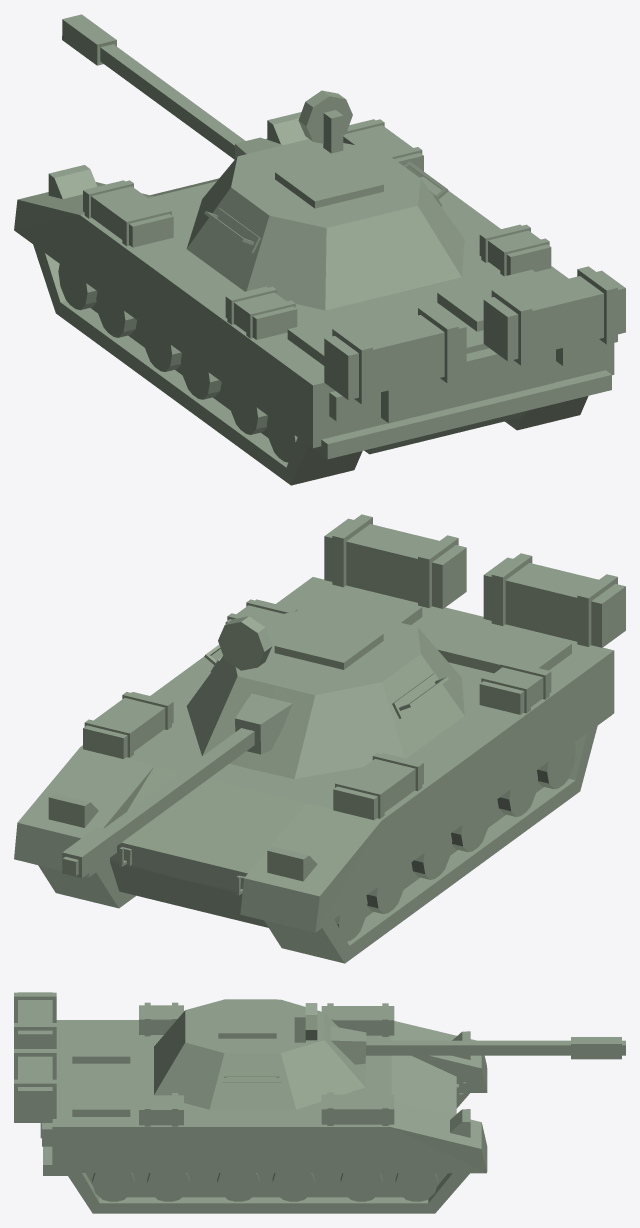
Rendered from tank_02_body.fbx.
3 renders of one model, top to bottom at view 1: azimuth 30°, elevation 25°; view 2: azimuth 150°, elevation 25°; view 3: azimuth 270°, elevation 25°, orthographic. The views are drawn at different scales.
Parts seen in each view (by area): view 1: tank_02_body, turret, barrel, lid01; view 2: tank_02_body, turret, barrel, lid01; view 3: tank_02_body, turret, barrel, lid01.
Boxes of the visible parts, bbox=[...] form: tank_02_body: bbox=[14, 112, 625, 485]; turret: bbox=[186, 90, 464, 310]; barrel: bbox=[62, 14, 283, 159]; lid01: bbox=[275, 155, 383, 208]; tank_02_body: bbox=[14, 514, 625, 963]; turret: bbox=[186, 604, 464, 778]; barrel: bbox=[62, 693, 292, 877]; lid01: bbox=[274, 617, 383, 669]; tank_02_body: bbox=[14, 992, 487, 1213]; turret: bbox=[154, 999, 366, 1109]; barrel: bbox=[330, 1026, 625, 1064]; lid01: bbox=[218, 1009, 276, 1038].
Size of the model in its own units: 5.25 by 3.93 by 12.64.
